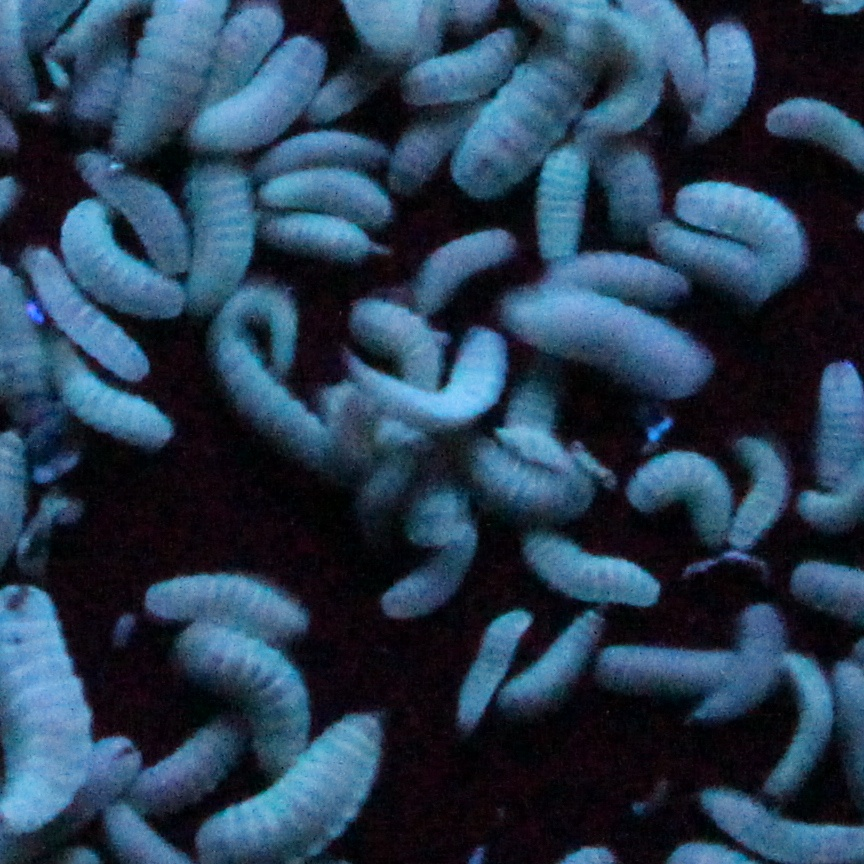larve: (498, 290, 719, 403), (344, 289, 512, 416), (184, 615, 315, 769), (186, 34, 325, 155), (55, 200, 191, 322), (522, 524, 665, 619), (39, 348, 175, 446), (663, 184, 812, 271), (136, 565, 310, 638), (500, 607, 607, 714), (185, 164, 256, 308), (627, 445, 727, 545), (644, 215, 767, 296), (689, 605, 782, 712), (451, 612, 539, 724), (379, 527, 477, 619), (260, 158, 393, 224), (688, 21, 755, 146), (420, 224, 515, 310), (258, 208, 382, 265), (819, 348, 862, 490), (735, 435, 779, 546)
